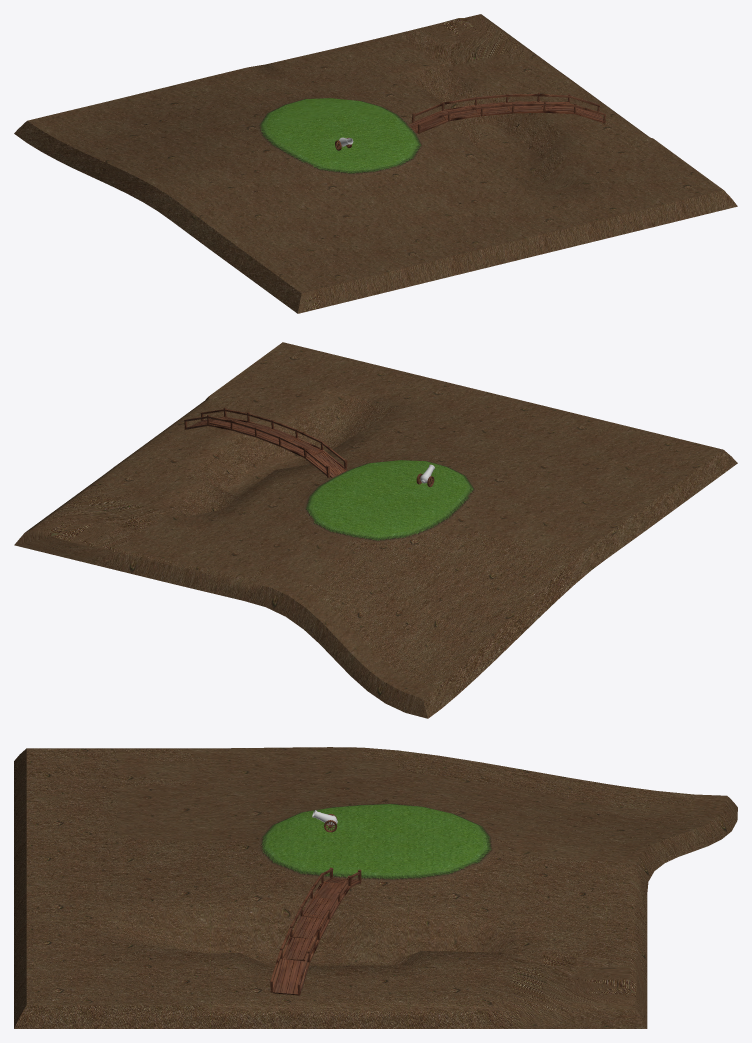
File: scene with bridge test delete.fbx
3 views of the same model, one above another, from view 1: azimuth 30°, elevation 25°; view 2: azimuth 150°, elevation 25°; view 3: azimuth 270°, elevation 25° (orthographic). The views are drawn at different scales.
Visible parts, largest first — view 1: pCube1, pCube25, pCube24, pCube2; view 2: pCube1; view 3: pCube1, pCube22, pCube23, pCube21, pCube18.
Part boxes in pixels (x1=…): pCube1: x1=14, y1=14, x2=737, y2=313; pCube25: x1=419, y1=103, x2=605, y2=125; pCube24: x1=415, y1=94, x2=599, y2=116; pCube2: x1=417, y1=110, x2=605, y2=133; pCube1: x1=14, y1=342, x2=737, y2=718; pCube1: x1=14, y1=747, x2=737, y2=1028; pCube22: x1=273, y1=958, x2=304, y2=995; pCube23: x1=284, y1=936, x2=317, y2=961; pCube21: x1=293, y1=914, x2=327, y2=939; pCube18: x1=302, y1=897, x2=337, y2=918.
Size of the model in its own units: 104 by 18.03 by 119.
